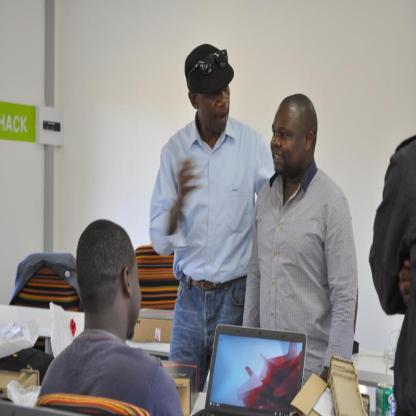board: (193, 324, 307, 416), (376, 383, 395, 415)
